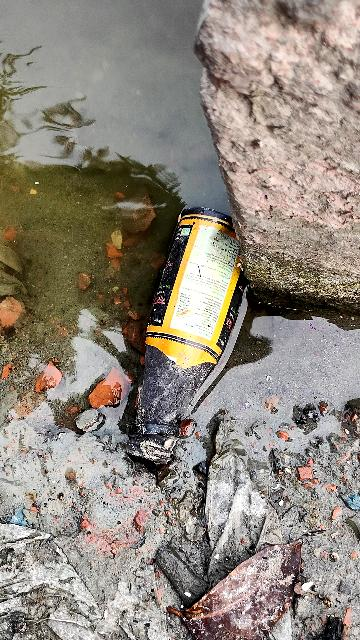bottle: (93, 195, 274, 464)
